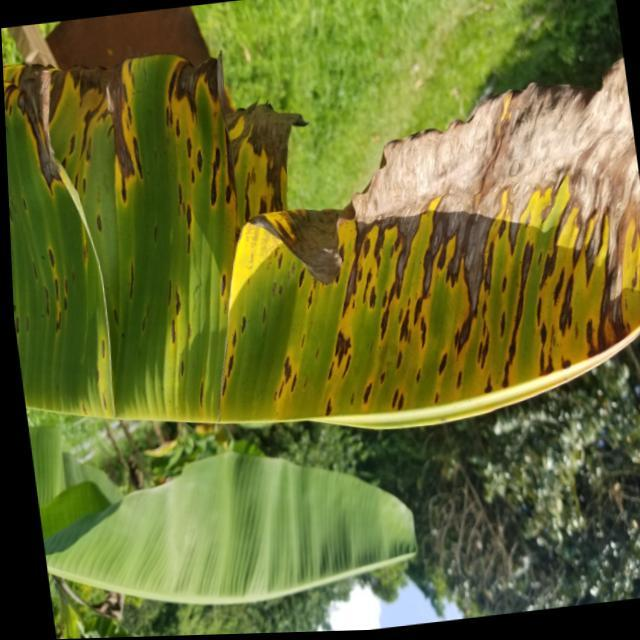Early_rust: (0, 45, 640, 457)
